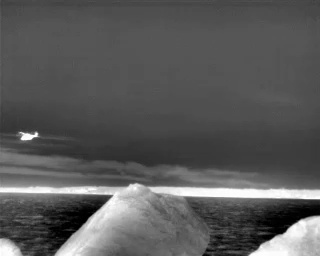HELICOPTER: (15, 127, 43, 145)
